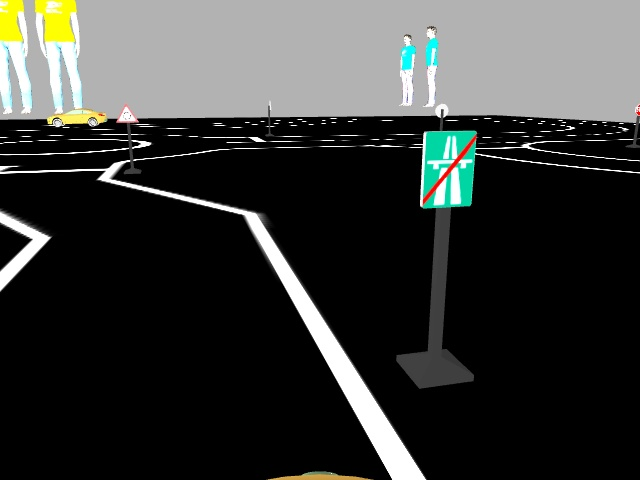HighwayExit: (417, 130, 474, 204)
